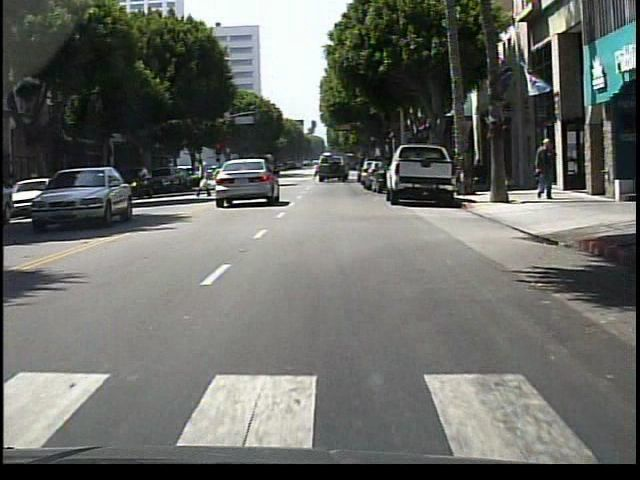person: (534, 136, 557, 201), (534, 146, 549, 198), (196, 156, 214, 199)
